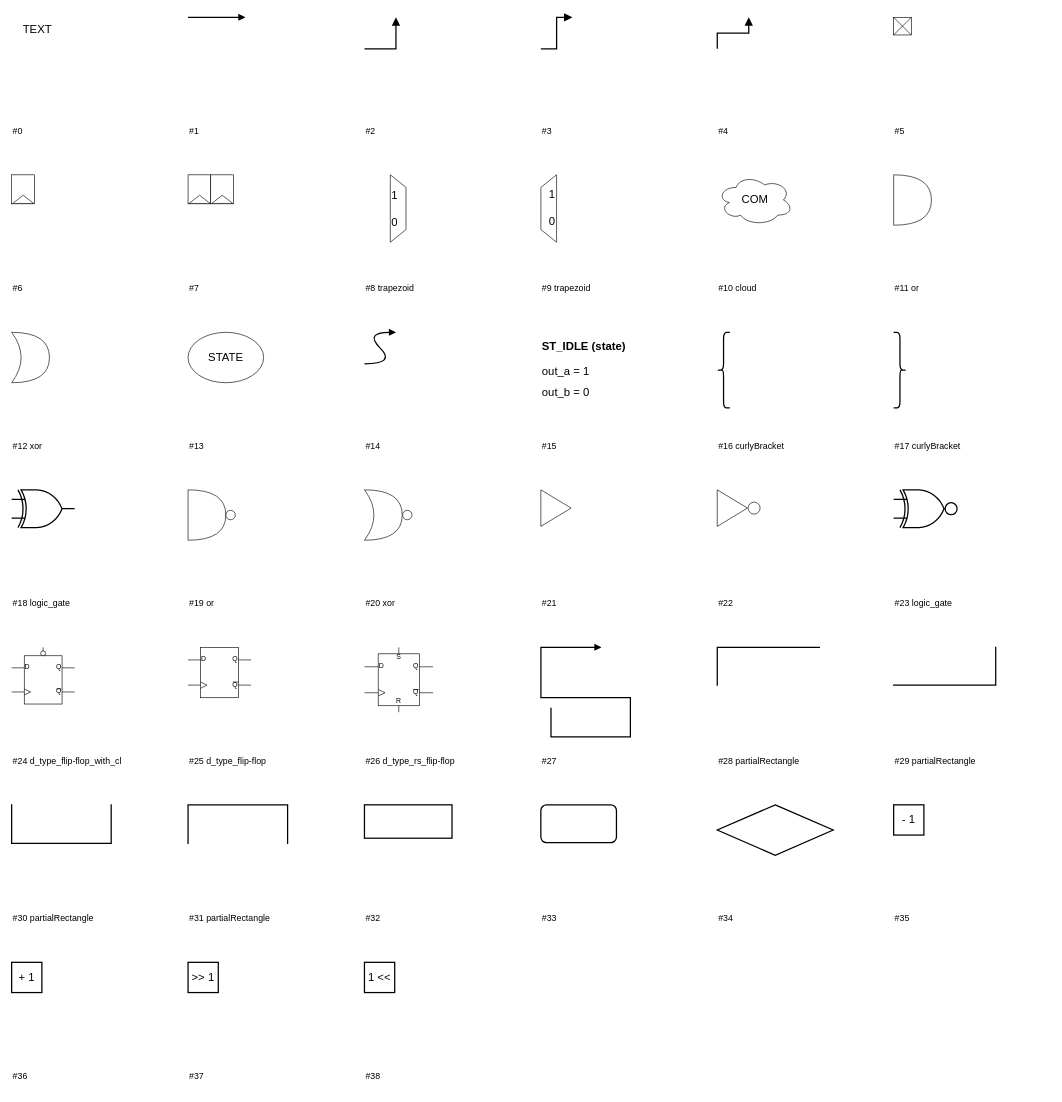
This 1062x1102 diagram has some shape labels left out. Each missing label, with the centre of its shape:
Description: (x=408, y=821)
enable ?: (x=774, y=830)
START: (x=578, y=823)
